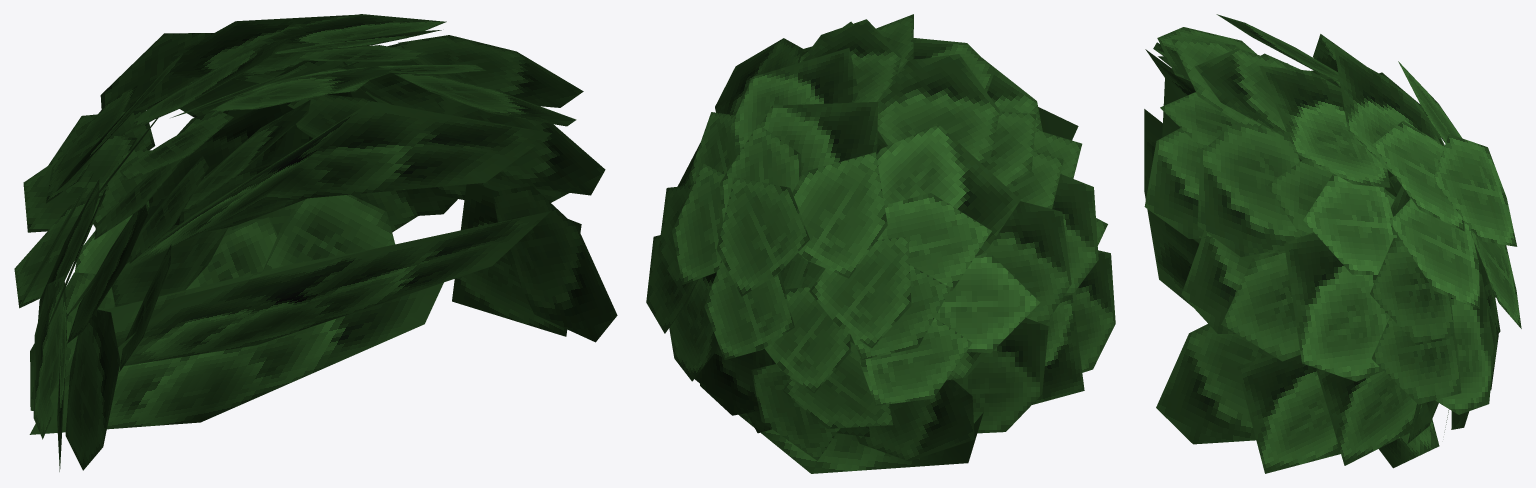
Rendered from bush-hibiscus.glb.
3 views of the same model, side by side, from view 1: azimuth 30°, elevation 25°; view 2: azimuth 150°, elevation 25°; view 3: azimuth 270°, elevation 25° (orthographic). The views are drawn at different scales.
Parts seen in each view (by area): view 1: PltBushHibiscus__PltBushHibiscus4_node1; view 2: PltBushHibiscus__PltBushHibiscus4_node1; view 3: PltBushHibiscus__PltBushHibiscus4_node1.
Boxes of the visible parts, x1,y1,x2,y2 form: PltBushHibiscus__PltBushHibiscus4_node1: (14, 14, 617, 471); PltBushHibiscus__PltBushHibiscus4_node1: (646, 14, 1115, 473); PltBushHibiscus__PltBushHibiscus4_node1: (1144, 14, 1521, 473).
Bounding box in the file's own units: 1.08 × 0.9609 × 0.7897.
1 material, 1 textured.
